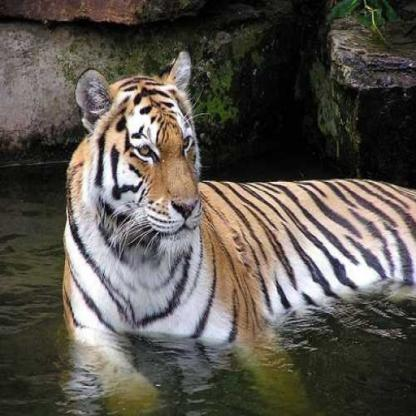Tiger: (54, 44, 416, 415)
